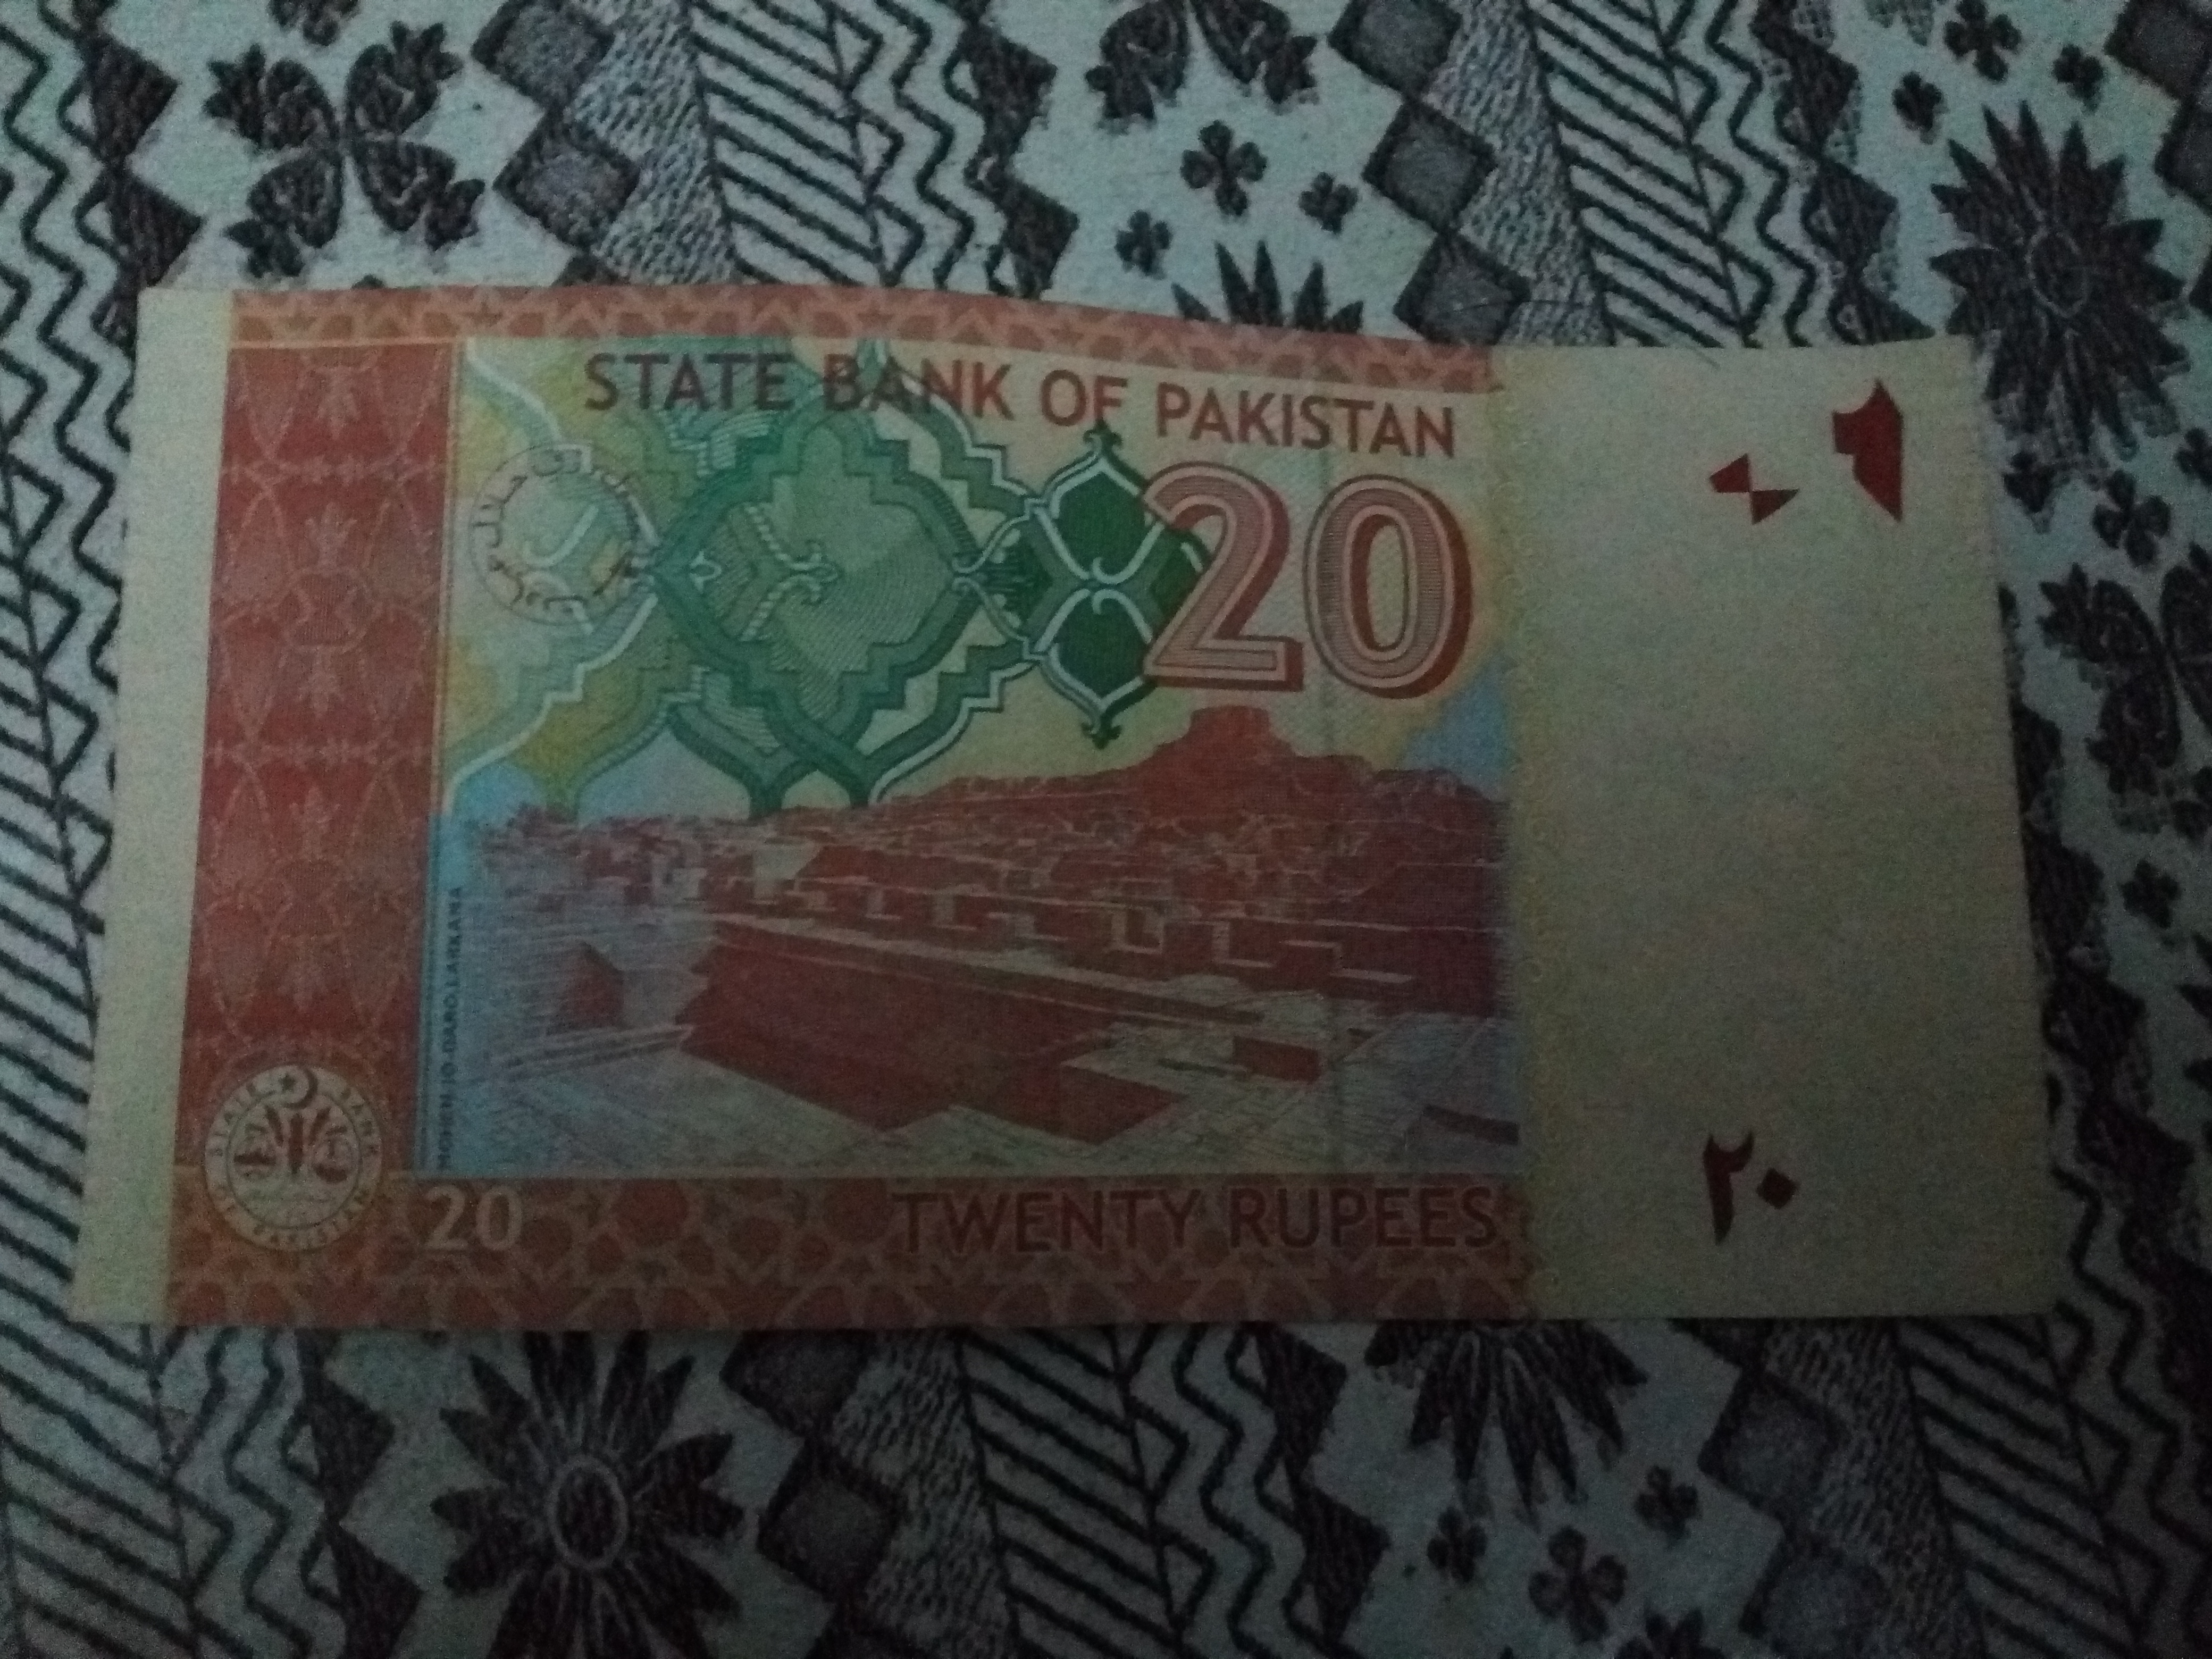20 rupee: (51, 223, 2107, 1384)
